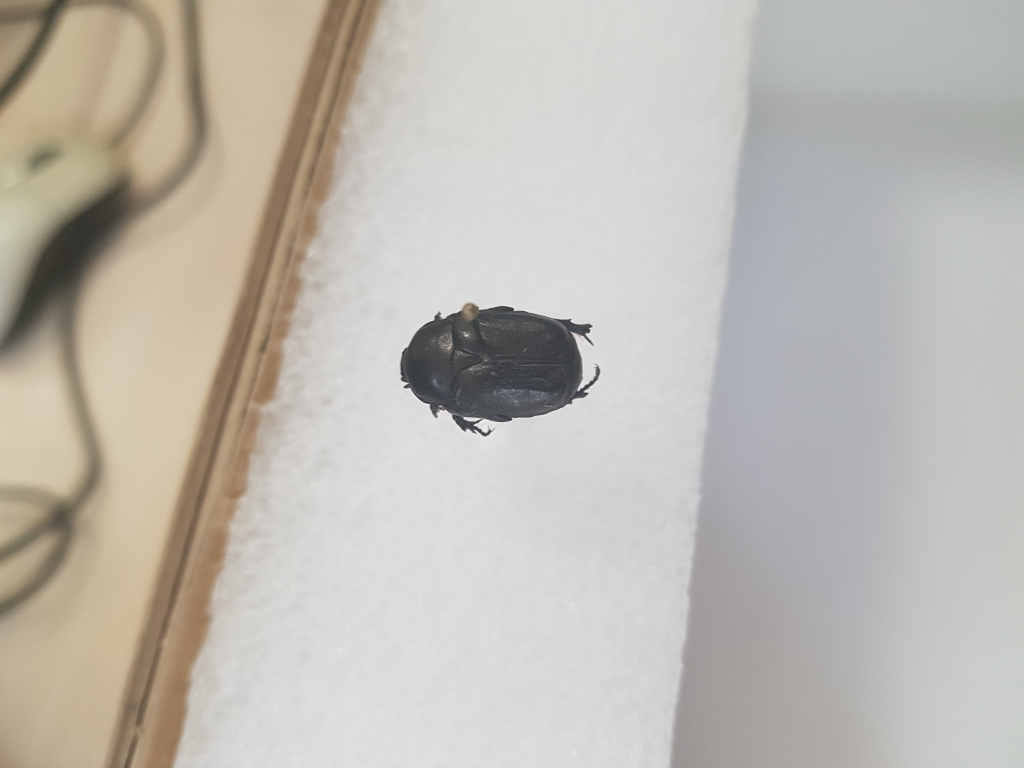Protaetia_vidua: (390, 272, 654, 436)
